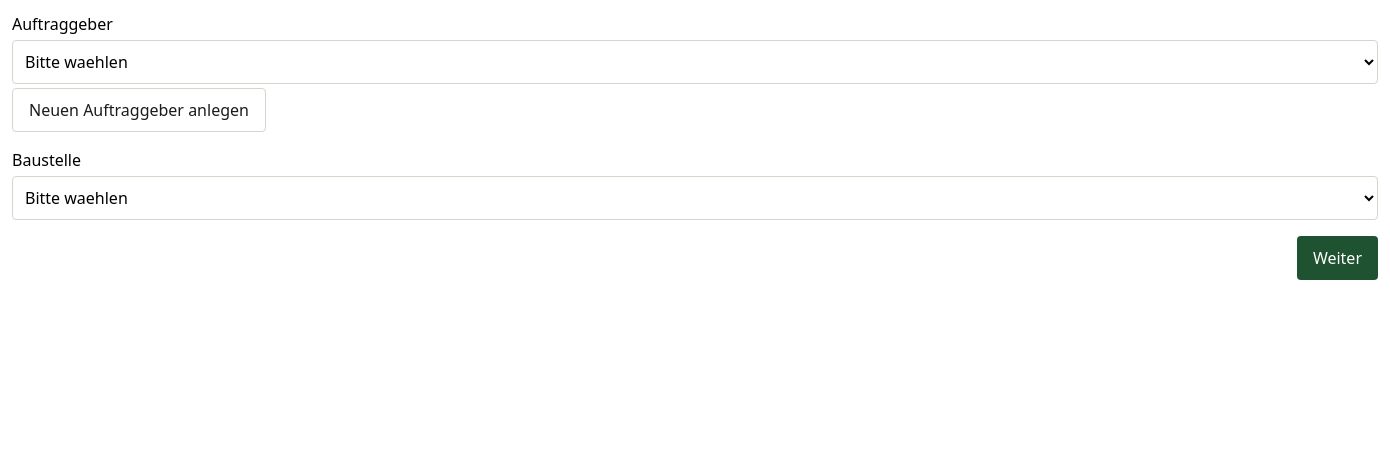
Test: StepWorksite › legt einen Auftraggeber inline an und waehlt ihn danach aus
Click the button "Neuen Auftraggeber anlegen" at (139, 110), box [12,88,266,132]
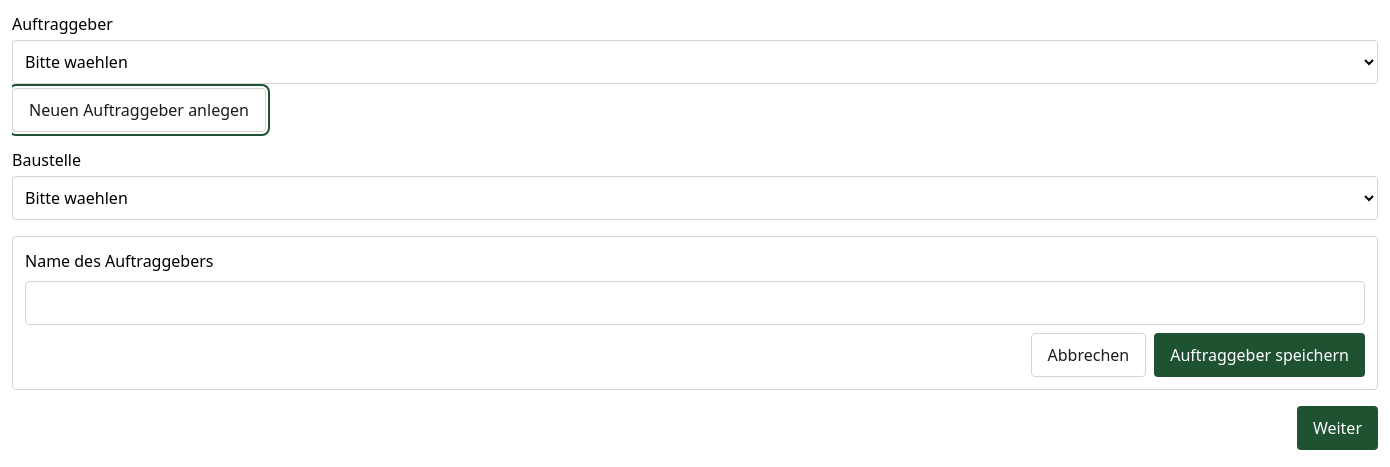
Type "Gruenflaechenamt" into the field labelled "Name des Auftraggebers" at (695, 303), box [25,281,1365,325]
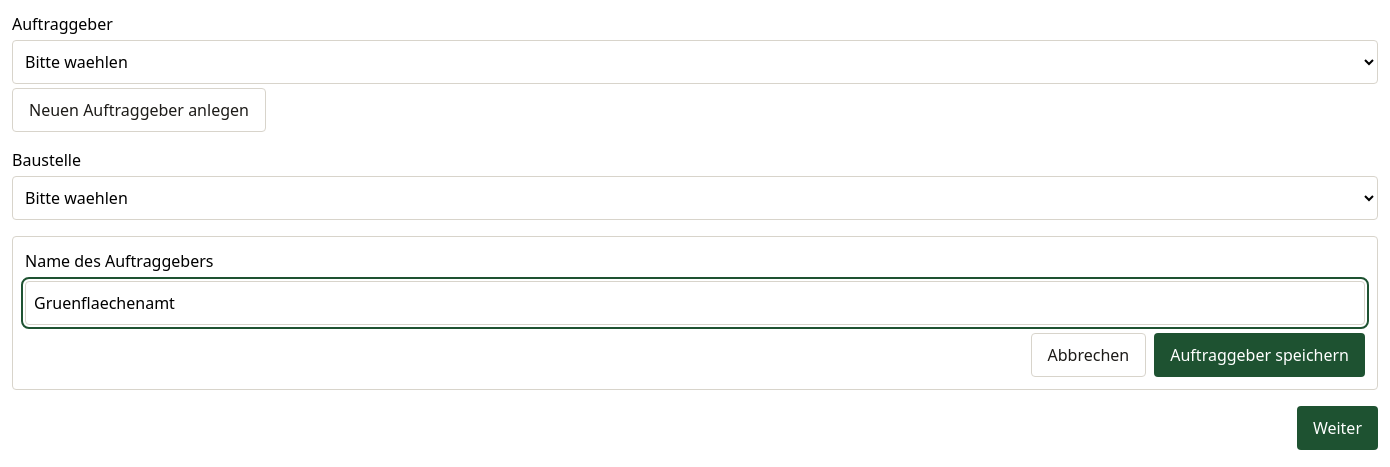
Click the button "Auftraggeber speichern" at (1260, 355), box [1154,333,1365,377]
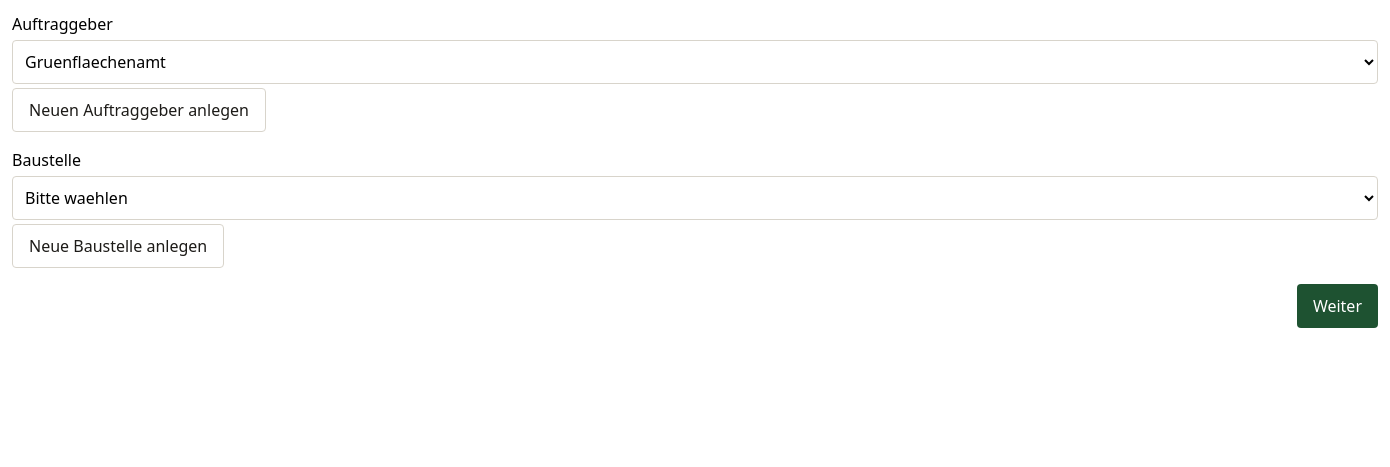
Result: the dropdown labelled "Auftraggeber" shows "Gruenflaechenamt" at [12,40,1378,84]
